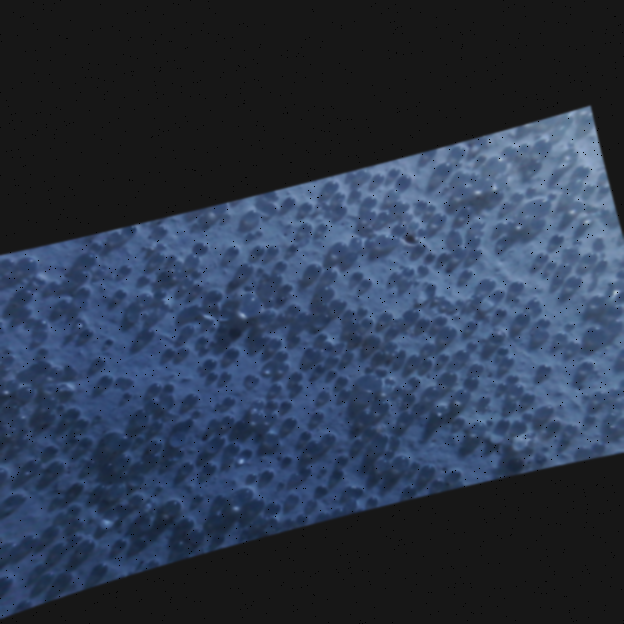GrassBeadSeg: (58, 140, 533, 581), (0, 224, 537, 608), (54, 181, 598, 502), (50, 265, 599, 550), (51, 197, 551, 502), (44, 143, 497, 468), (0, 305, 498, 587), (68, 167, 462, 490), (2, 136, 552, 362), (211, 248, 610, 543), (66, 298, 604, 512), (147, 181, 611, 427), (211, 156, 535, 502), (132, 205, 611, 439), (77, 208, 536, 427), (40, 221, 440, 454), (130, 235, 523, 468), (88, 251, 370, 573), (157, 210, 414, 541), (102, 188, 600, 358), (107, 274, 487, 494), (137, 272, 604, 451), (65, 267, 623, 416), (83, 171, 416, 420), (0, 456, 547, 606), (44, 195, 482, 375), (32, 163, 591, 304), (282, 141, 518, 473), (311, 156, 543, 492), (181, 291, 606, 470), (96, 241, 623, 383), (112, 203, 393, 467), (210, 148, 521, 386), (48, 381, 524, 534), (0, 325, 466, 479), (150, 210, 449, 449), (185, 249, 596, 422), (244, 202, 490, 480), (21, 243, 280, 507), (230, 263, 512, 501), (180, 231, 566, 403), (0, 222, 397, 389), (32, 187, 504, 325), (191, 361, 553, 539), (218, 193, 524, 399), (61, 286, 549, 415), (183, 197, 584, 351), (0, 353, 405, 502), (76, 172, 443, 335), (90, 249, 599, 365), (71, 239, 284, 511), (30, 273, 608, 369), (152, 174, 369, 427), (36, 279, 582, 378), (41, 306, 277, 534), (145, 316, 552, 448), (45, 196, 623, 288), (296, 167, 468, 474), (174, 165, 370, 428), (9, 286, 275, 478), (174, 238, 349, 528), (0, 244, 455, 355), (184, 308, 399, 541), (0, 227, 302, 388), (178, 249, 549, 379), (210, 277, 482, 453), (1, 335, 283, 504), (274, 195, 547, 369), (181, 159, 453, 333), (195, 281, 417, 494), (12, 297, 293, 463), (334, 257, 558, 463), (96, 294, 361, 465), (182, 278, 526, 403), (78, 255, 600, 337), (163, 194, 296, 511), (15, 315, 516, 393), (398, 172, 594, 369), (393, 221, 623, 385), (371, 206, 611, 358), (14, 300, 300, 427), (330, 190, 569, 338), (161, 272, 583, 355), (293, 306, 590, 421), (75, 250, 195, 527), (303, 337, 582, 450), (299, 199, 551, 324), (21, 316, 214, 468), (121, 280, 369, 398), (178, 351, 424, 469), (0, 202, 475, 263), (452, 203, 583, 424), (47, 349, 282, 471), (9, 363, 375, 441), (185, 261, 623, 325), (443, 109, 600, 280), (249, 242, 391, 424), (115, 363, 369, 464), (220, 307, 369, 479), (121, 222, 359, 328), (93, 260, 329, 364), (73, 269, 479, 329), (439, 294, 623, 426), (256, 207, 378, 406), (308, 309, 532, 417), (393, 199, 481, 464), (311, 214, 547, 311), (190, 239, 286, 470), (5, 367, 183, 489), (126, 223, 333, 327), (277, 208, 392, 395), (365, 194, 477, 384), (208, 219, 339, 380), (14, 254, 163, 391), (290, 383, 548, 462), (93, 264, 220, 423), (316, 192, 504, 296), (311, 313, 452, 435), (309, 330, 569, 395), (274, 232, 397, 368), (38, 394, 485, 431), (13, 262, 134, 397), (206, 380, 453, 445), (272, 257, 508, 315), (353, 330, 505, 420), (433, 392, 583, 483), (25, 491, 267, 544), (286, 240, 398, 351), (160, 230, 268, 344), (34, 513, 222, 577), (178, 264, 483, 302), (505, 317, 622, 415), (372, 217, 417, 465), (333, 193, 428, 308), (278, 323, 401, 410), (102, 294, 320, 343), (222, 260, 323, 357), (316, 187, 362, 397), (342, 322, 409, 466), (333, 344, 578, 383), (168, 192, 279, 275), (277, 434, 400, 504), (241, 189, 523, 219), (241, 336, 311, 456), (0, 272, 84, 372), (21, 500, 127, 578), (0, 263, 374, 285), (179, 273, 268, 363), (363, 286, 501, 344), (155, 287, 284, 347), (455, 183, 569, 249), (77, 495, 220, 547), (36, 269, 148, 332), (516, 137, 599, 221), (255, 187, 400, 235), (12, 412, 153, 459), (418, 202, 601, 238), (39, 408, 160, 461), (97, 368, 459, 385), (372, 165, 459, 234), (54, 433, 94, 582), (388, 279, 464, 357), (166, 363, 282, 413), (196, 239, 339, 278), (495, 286, 525, 467), (392, 224, 477, 283), (455, 158, 534, 219), (432, 380, 554, 417), (242, 200, 303, 271), (313, 295, 348, 418), (551, 391, 616, 452), (293, 331, 387, 373), (301, 353, 342, 449), (376, 431, 461, 476), (591, 318, 623, 423), (438, 324, 508, 371), (583, 323, 608, 450), (384, 351, 464, 390), (303, 198, 371, 242), (79, 433, 144, 475), (248, 499, 345, 524), (393, 374, 449, 417), (171, 393, 278, 414), (0, 317, 47, 361), (459, 152, 505, 193), (148, 225, 183, 272), (533, 118, 577, 153), (337, 383, 442, 396), (342, 443, 365, 496), (356, 340, 381, 387), (235, 396, 268, 427), (106, 432, 131, 447), (466, 358, 484, 373), (452, 347, 470, 359), (471, 218, 485, 230)
